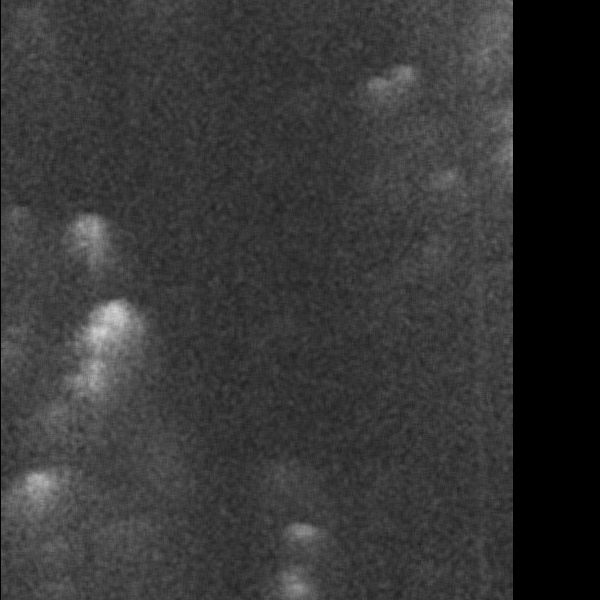spark: (71, 298, 129, 431), (14, 465, 67, 537), (70, 208, 110, 296), (468, 6, 496, 89), (384, 59, 424, 107), (276, 517, 326, 551), (19, 536, 84, 559), (430, 164, 468, 203), (274, 567, 313, 600)
